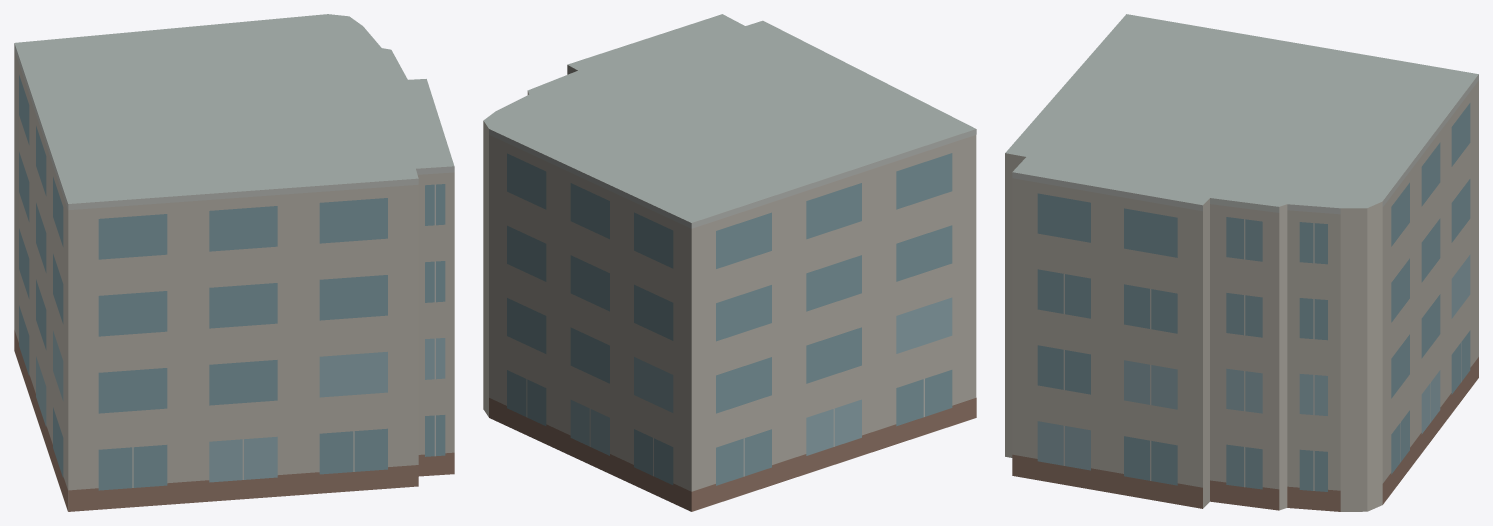
Rendered from survey-upis-32973713.glb.
The picture shows the model from 3 angles, left to right: view 1: azimuth 30°, elevation 25°; view 2: azimuth 150°, elevation 25°; view 3: azimuth 270°, elevation 25°; orthographic projection. The views are drawn at different scales.
Parts seen in each view (by area): view 1: survey-upis-32973713.tmp; view 2: survey-upis-32973713.tmp; view 3: survey-upis-32973713.tmp.
Part boxes in pixels (left/top/right/bottom): survey-upis-32973713.tmp: left=14, top=14, right=454, bottom=511; survey-upis-32973713.tmp: left=483, top=14, right=976, bottom=511; survey-upis-32973713.tmp: left=1005, top=14, right=1478, bottom=511.
Size of the model in its own units: 16.75 by 12.2 by 17.26.
